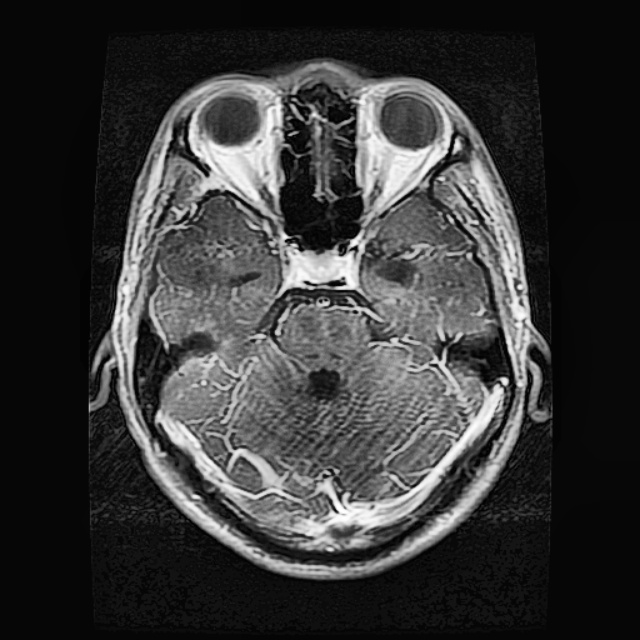Meningioma: (360, 235, 434, 289)
